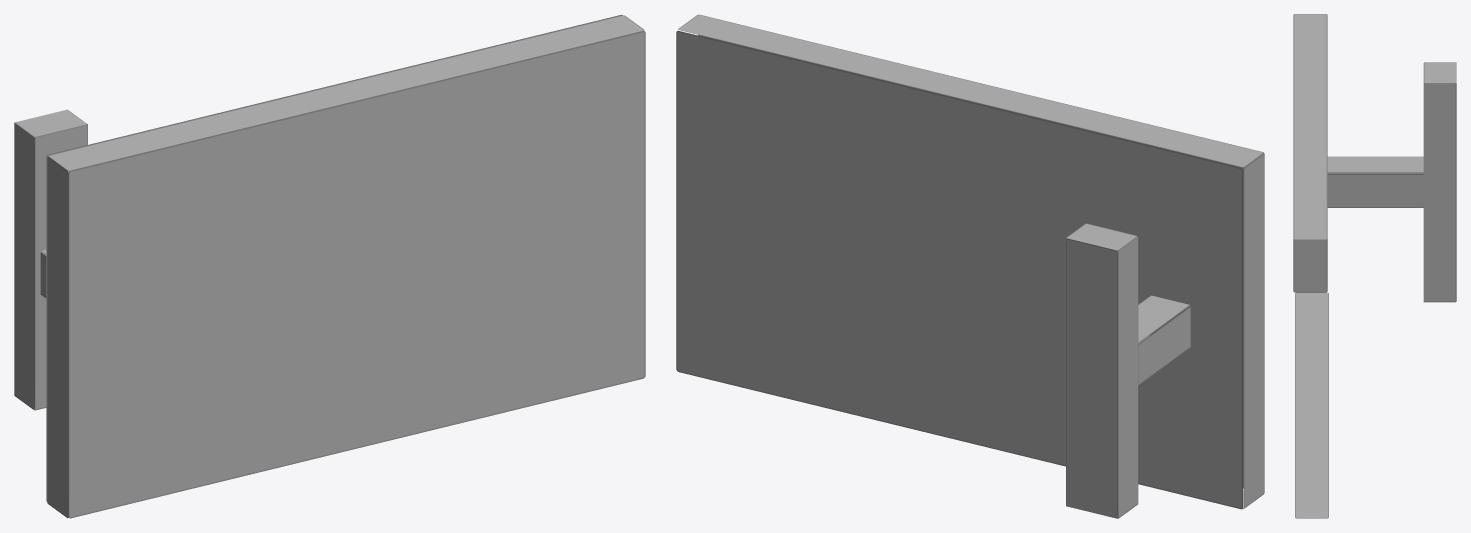
Rendered from pz_benche_seating_outdoor_01_birchwood_0_0.obj.
3 views of the same model, side by side, from view 1: azimuth 30°, elevation 25°; view 2: azimuth 150°, elevation 25°; view 3: azimuth 270°, elevation 25° (orthographic). The views are drawn at different scales.
Parts seen in each view (by area): view 1: root; view 2: root; view 3: root.
Boxes of the visible parts, x1=… form: root: x1=14, y1=14, x2=645, y2=518; root: x1=676, y1=14, x2=1264, y2=518; root: x1=1293, y1=14, x2=1456, y2=518.
Bounding box in the file's own units: 0.975 × 0.56 × 0.2972.
Materials: 1 (1 with a texture image).
